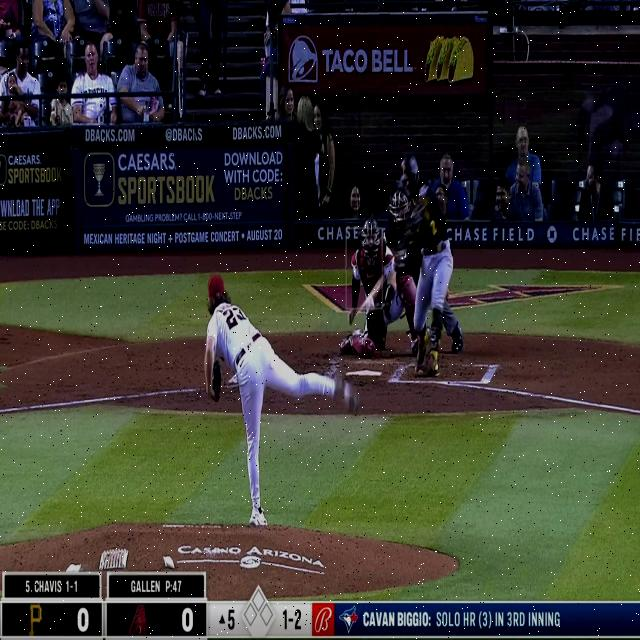baseball: (367, 296, 375, 312)
